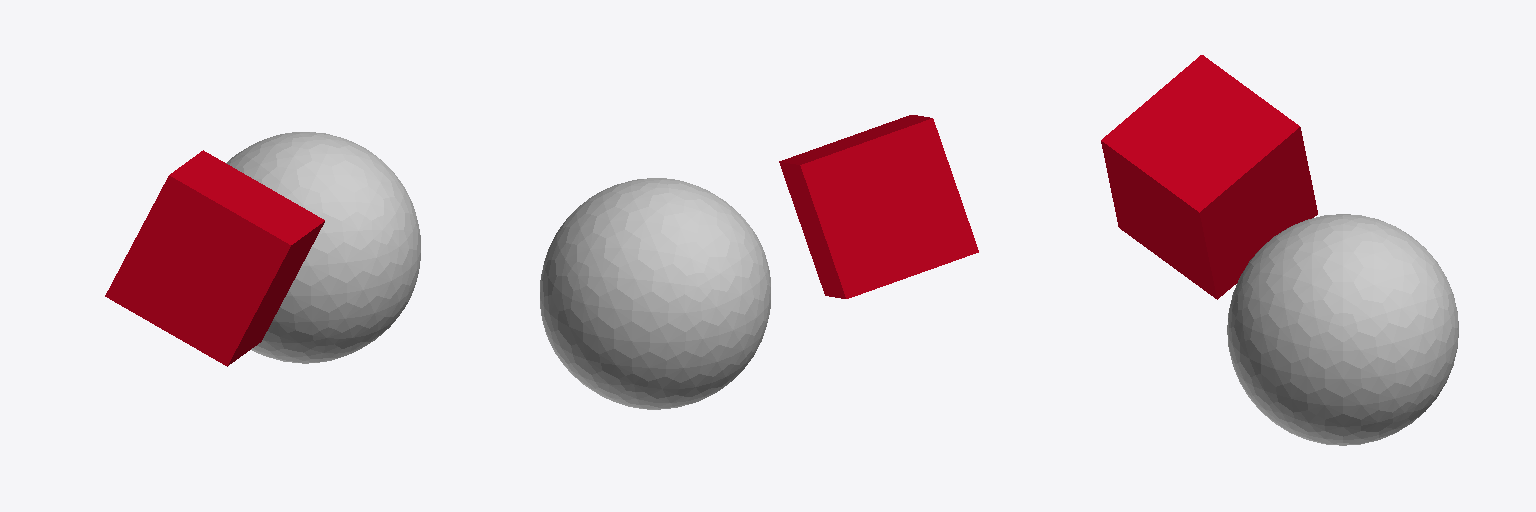
File: reflection.obj
3 renders of one model, left to right at view 1: azimuth 30°, elevation 25°; view 2: azimuth 150°, elevation 25°; view 3: azimuth 270°, elevation 25°, orthographic.
Visible parts, largest first — view 1: Cube, Icosphere; view 2: Icosphere, Cube; view 3: Icosphere, Cube.
Boxes of the visible parts, x1=… form: Cube: x1=105, y1=150, x2=324, y2=366; Icosphere: x1=226, y1=132, x2=420, y2=363; Icosphere: x1=540, y1=178, x2=770, y2=409; Cube: x1=779, y1=115, x2=978, y2=298; Icosphere: x1=1227, y1=214, x2=1458, y2=445; Cube: x1=1101, y1=55, x2=1317, y2=299.
Bounding box in the file's own units: 3.94 × 2.91 × 3.37.